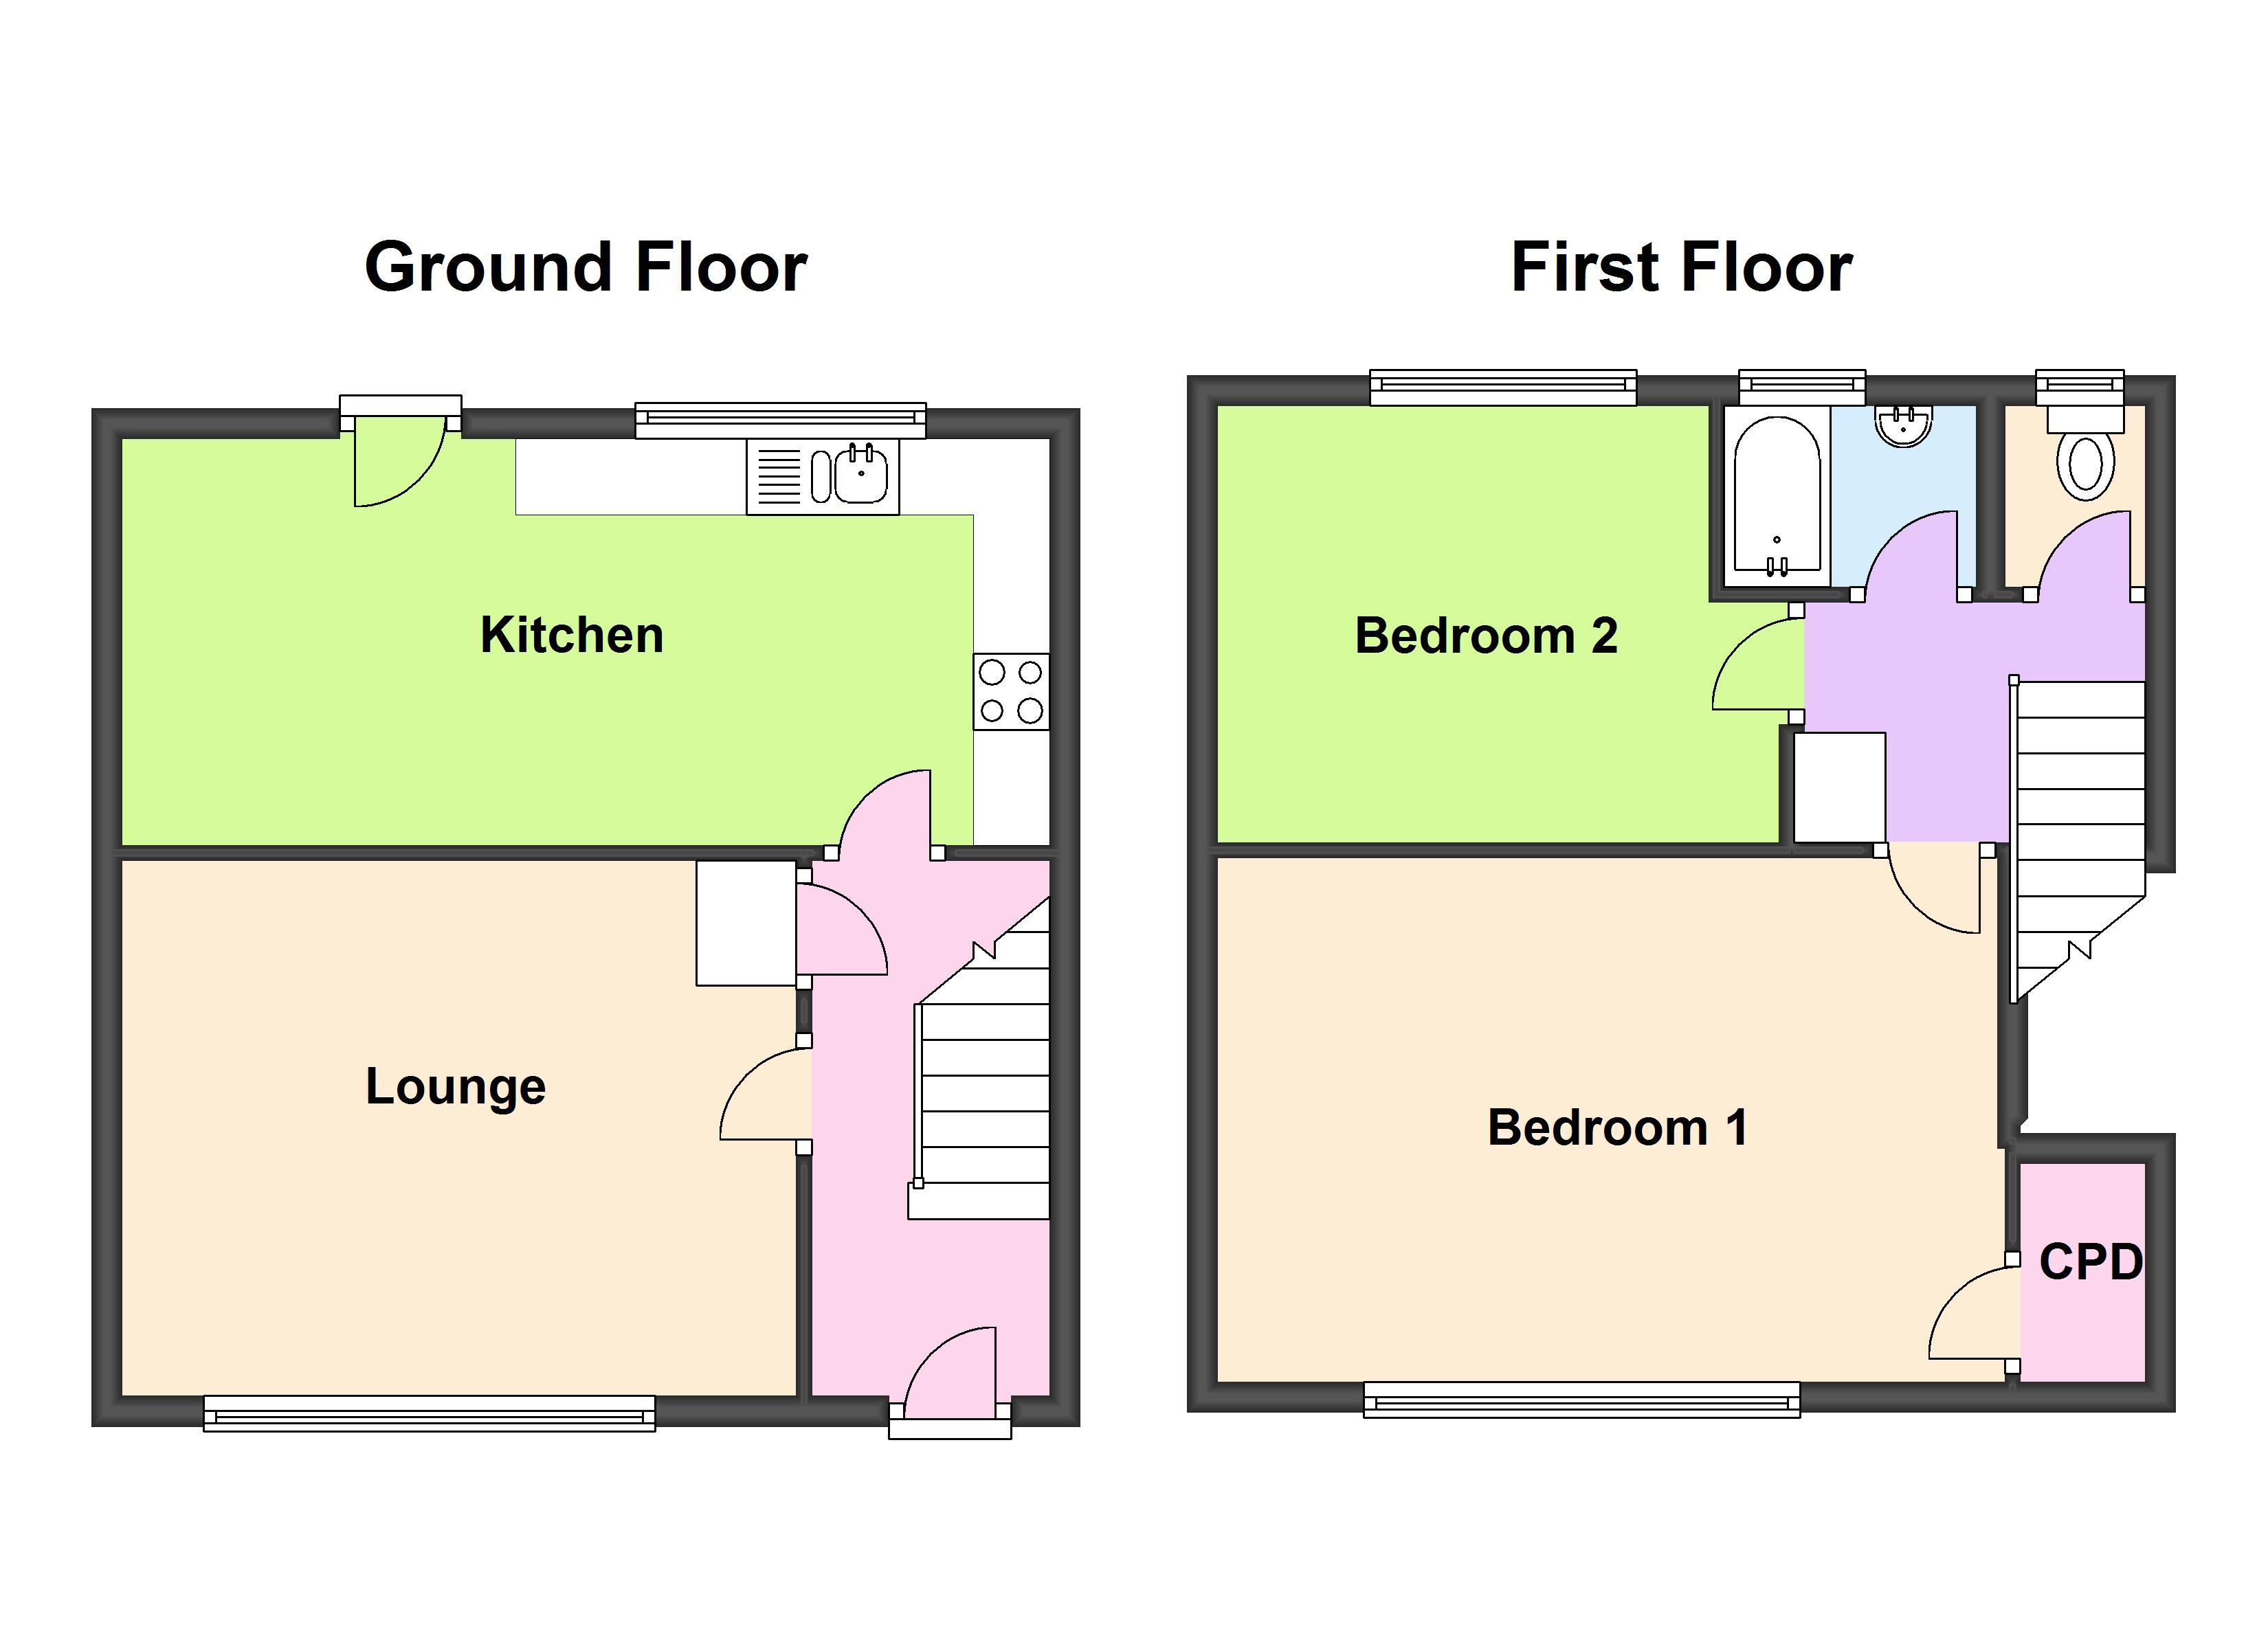door: (333, 422, 447, 526), (333, 421, 447, 524), (329, 419, 444, 523), (328, 417, 442, 521), (331, 421, 445, 523), (2043, 498, 2139, 595), (1694, 616, 1786, 718), (1923, 1269, 2014, 1369), (1870, 496, 1967, 586), (905, 1323, 1002, 1408), (713, 1044, 791, 1147), (817, 875, 891, 982), (1893, 868, 1986, 947), (836, 764, 933, 839)
